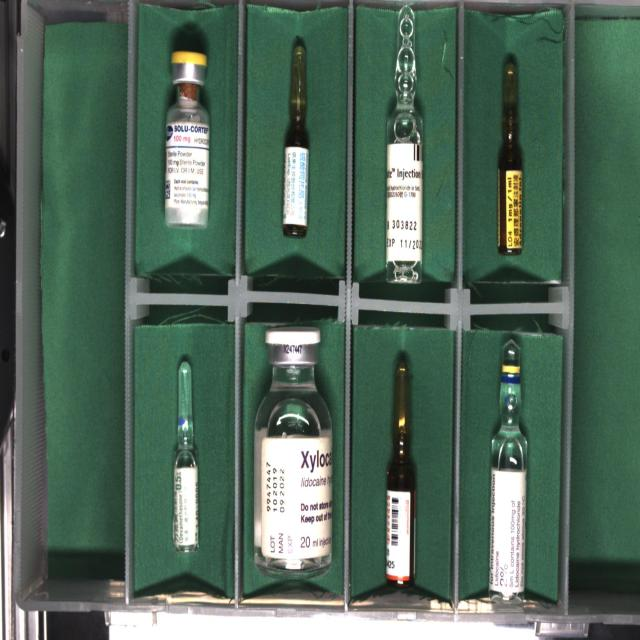Vials: (254, 326, 333, 570), (165, 51, 210, 227)
